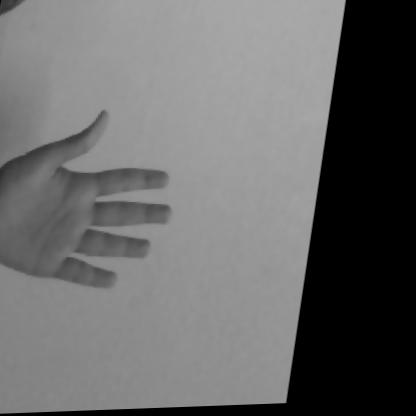palm: (0, 94, 206, 340)
